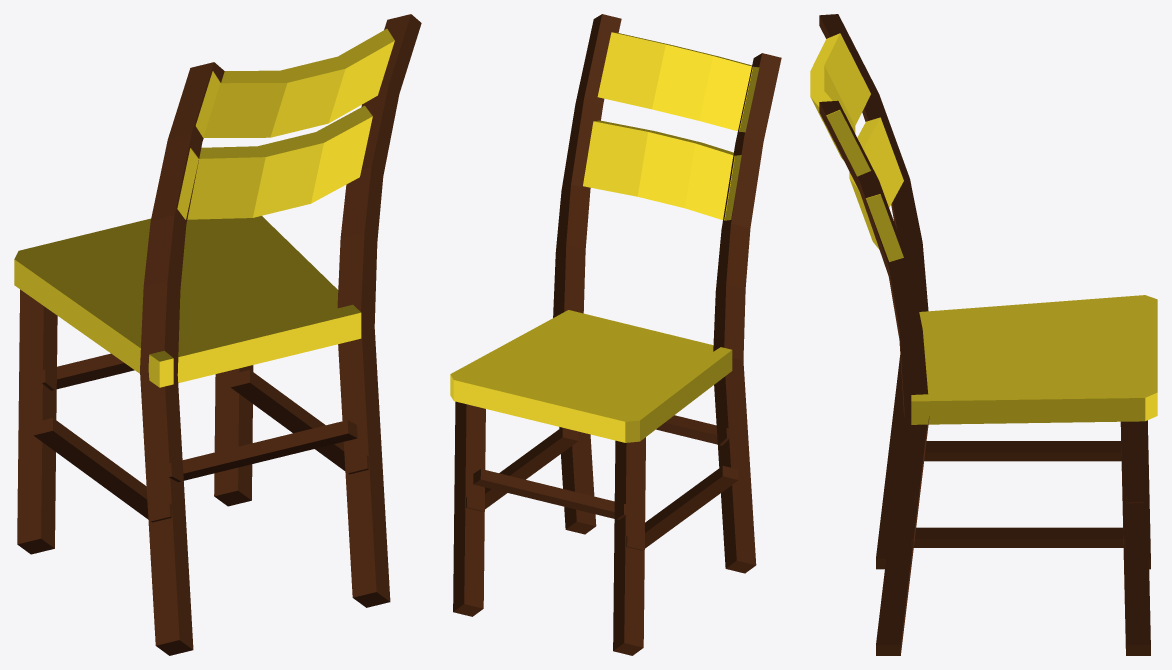
File: Dining Chair 1.fbx
The picture shows the model from 3 angles, left to right: view 1: azimuth 30°, elevation 25°; view 2: azimuth 150°, elevation 25°; view 3: azimuth 270°, elevation 25°; orthographic projection. The views are drawn at different scales.
Visible parts, largest first — view 1: Node 0; view 2: Node 0; view 3: Node 0.
Boxes of the visible parts, left/top/right/bottom form: Node 0: left=14, top=14, right=421, bottom=655; Node 0: left=450, top=14, right=781, bottom=655; Node 0: left=810, top=14, right=1157, bottom=655.
Size of the model in its own units: 0.5449 by 0.9428 by 0.382.
